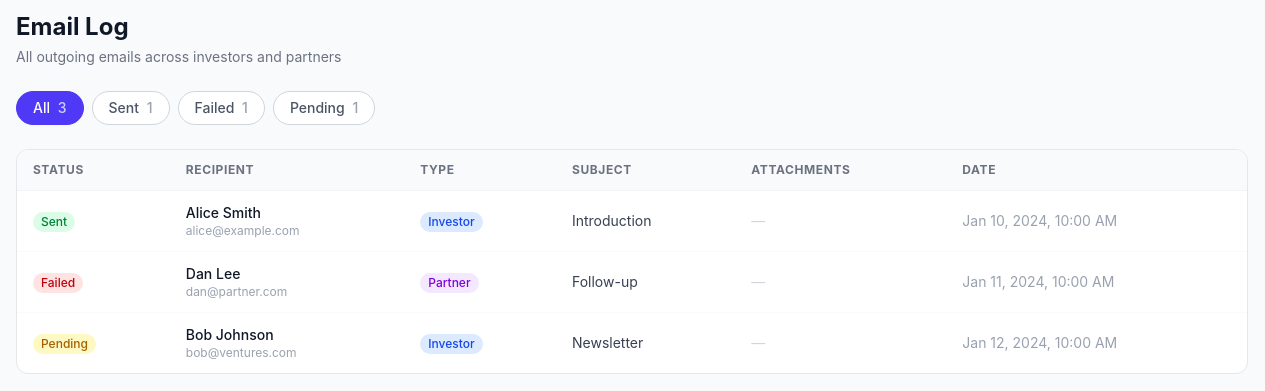
Test: EmailsPage › filters to show only SENT emails
The width and height of the screenshot is (1265, 391).
Expected: the text "Introduction" is shown, [572, 212, 652, 229]
Click the button "Sent 1" at (130, 108), box [92, 91, 170, 125]
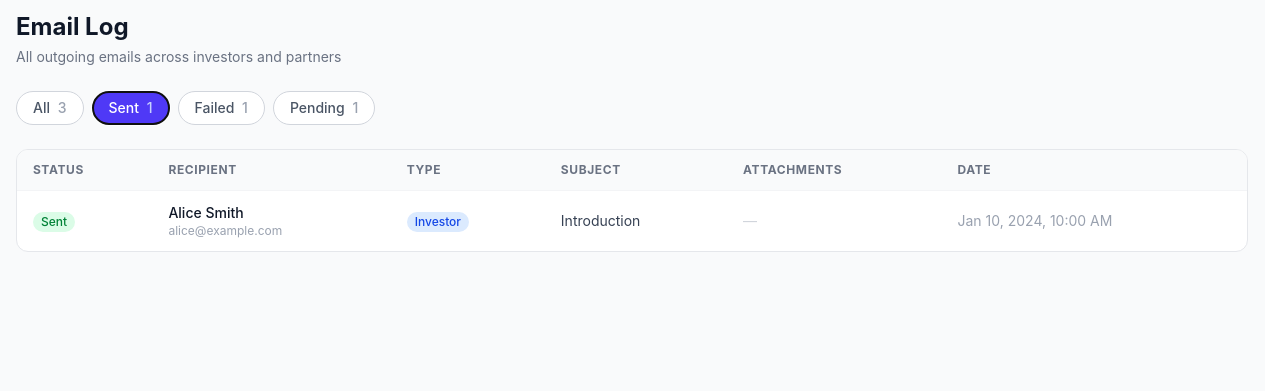
Expected: the text "Introduction" is shown, [561, 212, 640, 229]
Expected: the text "Follow-up" is gone
Expected: the text "Newsletter" is gone
